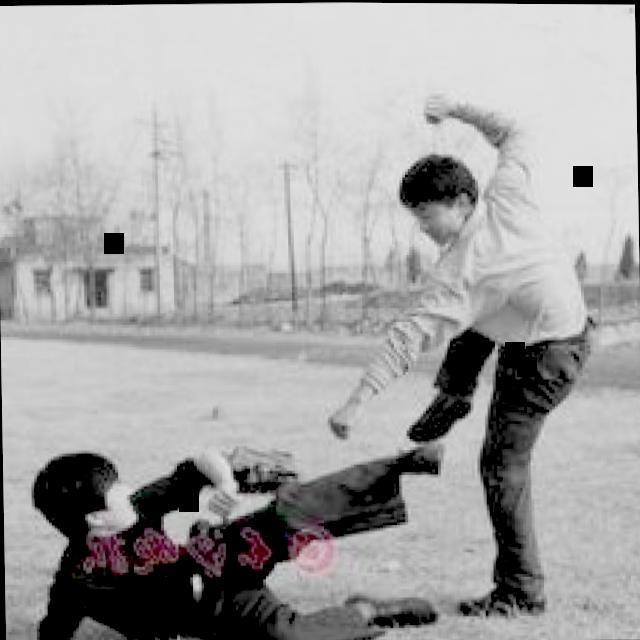Fall-Detected: (24, 397, 460, 640)
